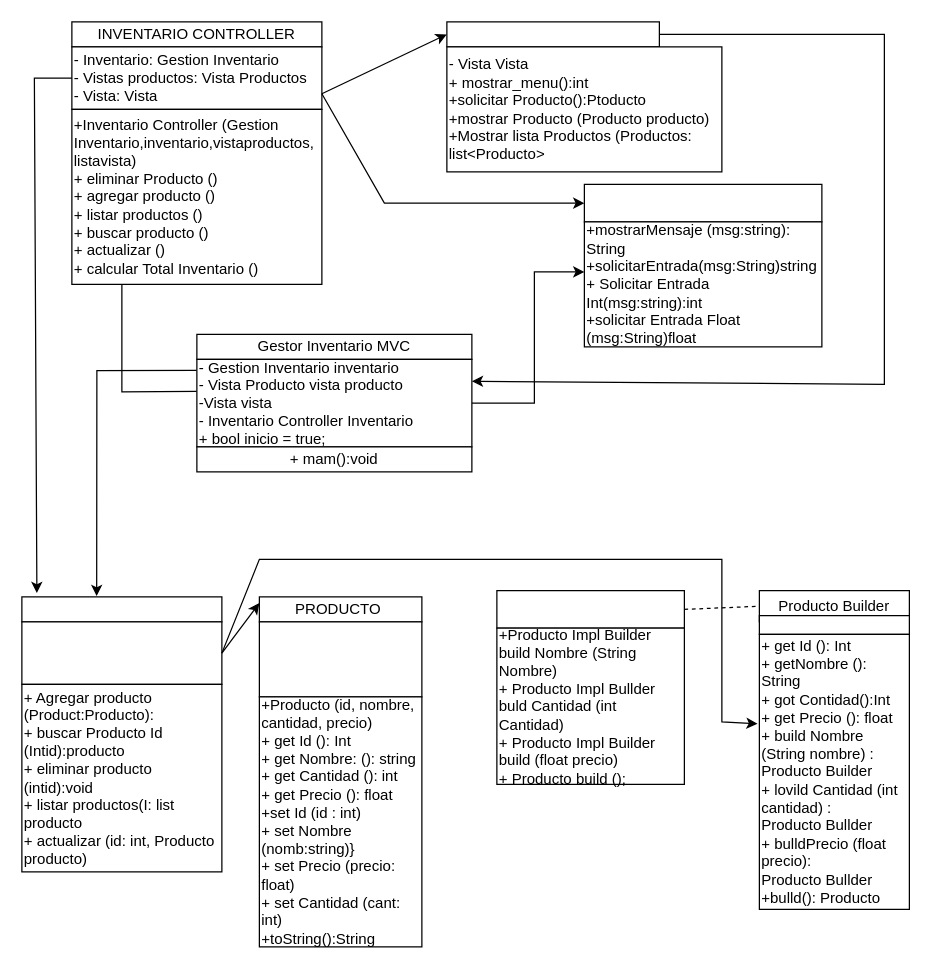
Some shapes in this 931 by 969 pixel diagram are drawn without their labels. Here are the shapes that lost their labels. From the top down, the centre of each, then its label:
At point 552,34: "VISTA PRODUCTOS".
At point 702,202: "Vista".
At point 121,609: "GESTION INVENTARIO".
At point 590,608: "<<Producto Impl Bulder>>".
At point 833,624: "- Producto producto".
At point 121,652: "Productos: Array [Producto] Producto Bulder: Producto Bulder".
At point 340,659: "- Id: int - nombre: string - cantidad: int - precio: float".
